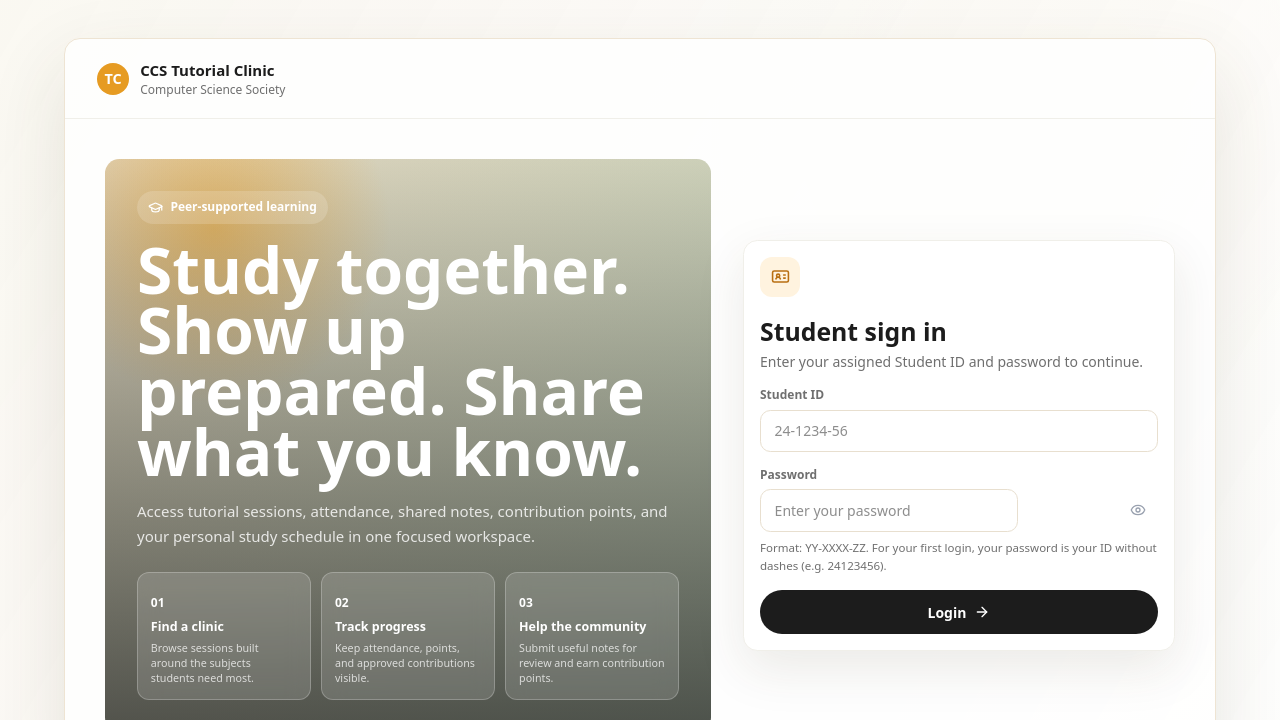
it: core front-end demo workflows › validates an invalid Student ID
Type "invalid" into the field labelled "Student ID".
click(959, 431); type("invalid")  # box [760, 410, 1158, 452]
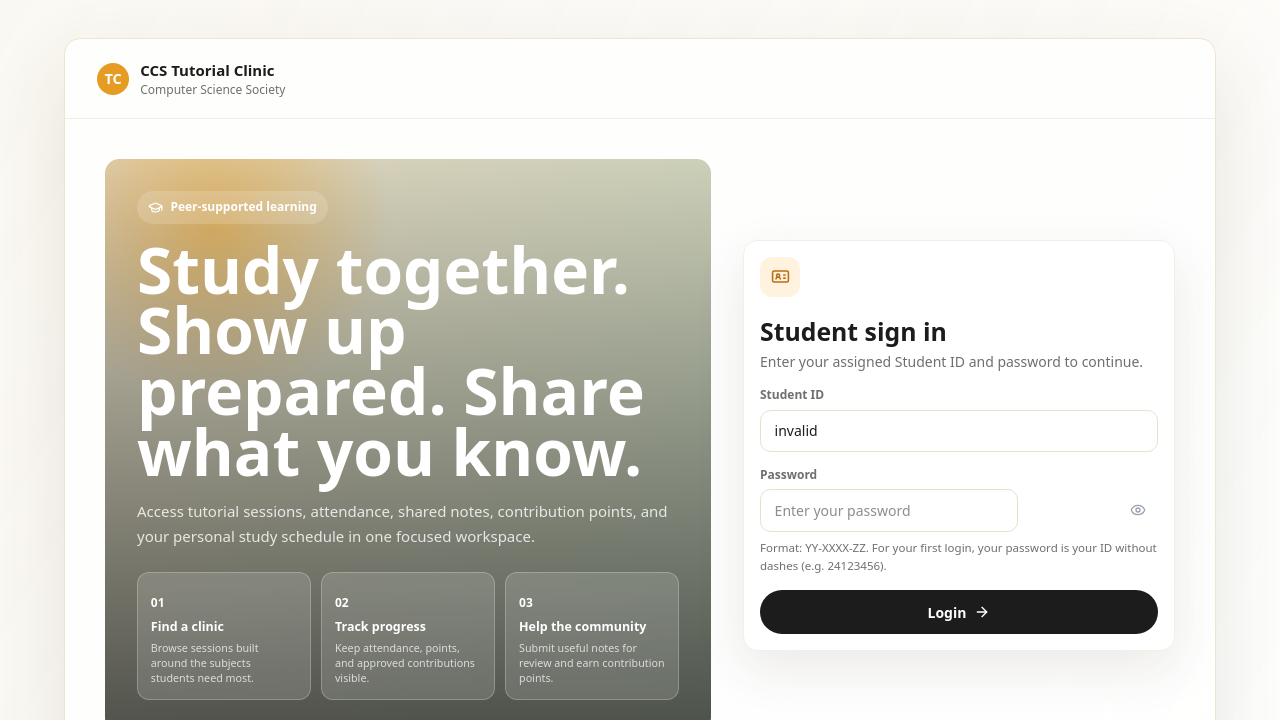
Click the button "Login".
click(959, 612)  # box [760, 590, 1158, 634]
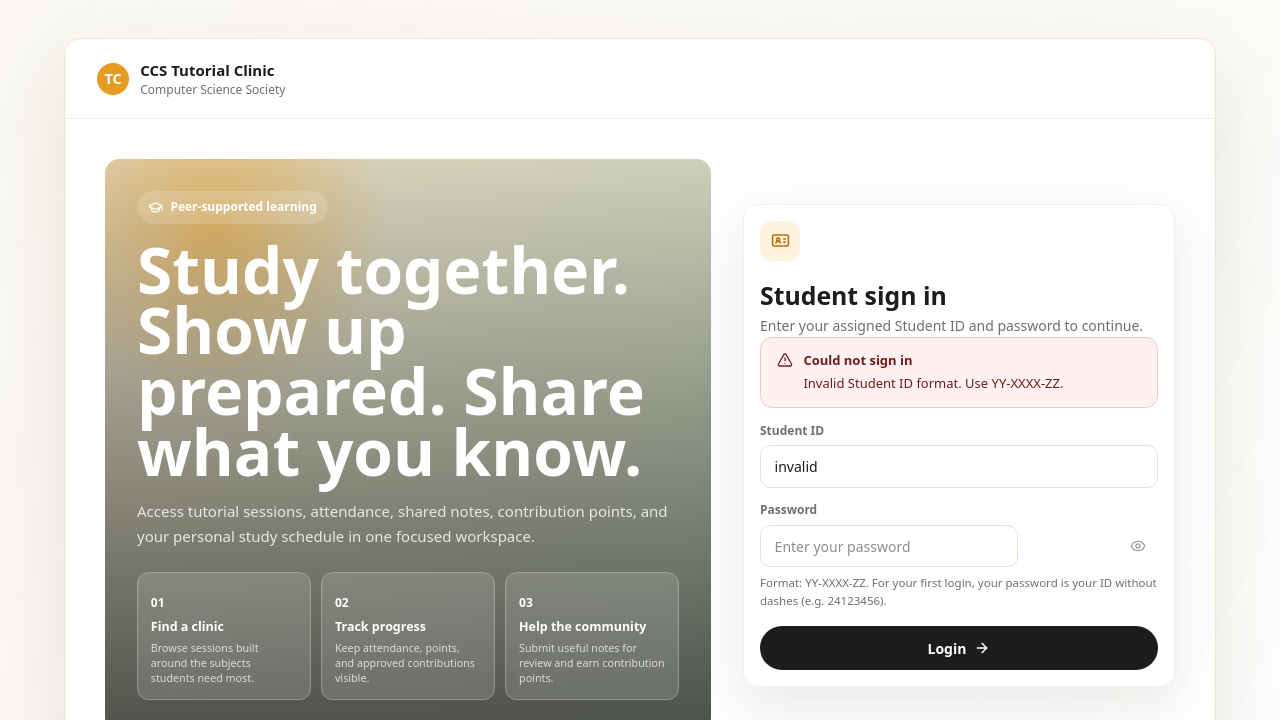
Result: the text "Invalid Student ID format. Use YY-XXXX-ZZ." is shown at [803, 374, 1064, 394]
